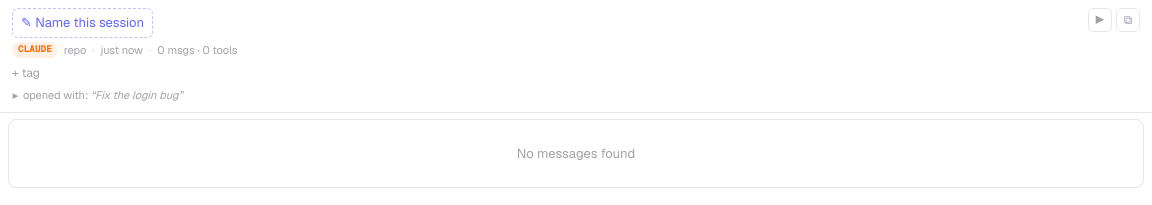
Scenario: SessionDetail copy-resume-command button › writes the prefetched command to the clipboard synchronously on click
Click the button named "Copy resume command".
click(1128, 20)  # box 1116,8 -> 1140,32
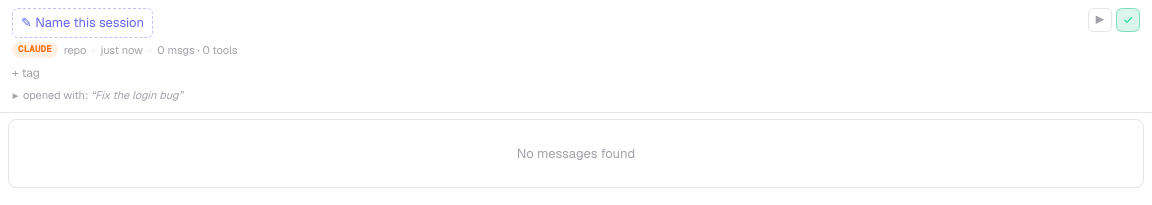
Expected: the button named "Copy resume command" reads "✓", 1116,8 -> 1140,32
